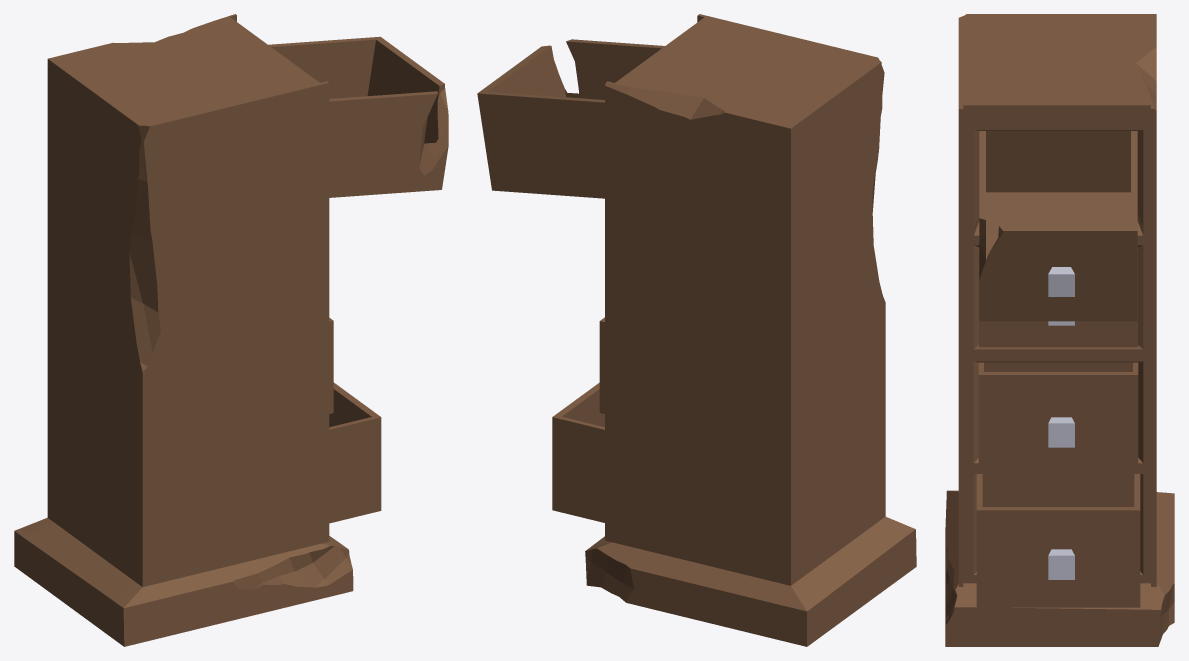
Rendered from Cabinet .fbx.
The picture shows the model from 3 angles, left to right: view 1: azimuth 30°, elevation 25°; view 2: azimuth 150°, elevation 25°; view 3: azimuth 270°, elevation 25°; orthographic projection. The views are drawn at different scales.
Parts seen in each view (by area): view 1: Cabinet; view 2: Cabinet; view 3: Cabinet.
Part boxes in pixels (box(x1,y1,x2,y2)): Cabinet: box(14, 14, 448, 646); Cabinet: box(477, 14, 916, 646); Cabinet: box(945, 14, 1174, 646).
Size of the model in its own units: 172 by 437 by 324.
